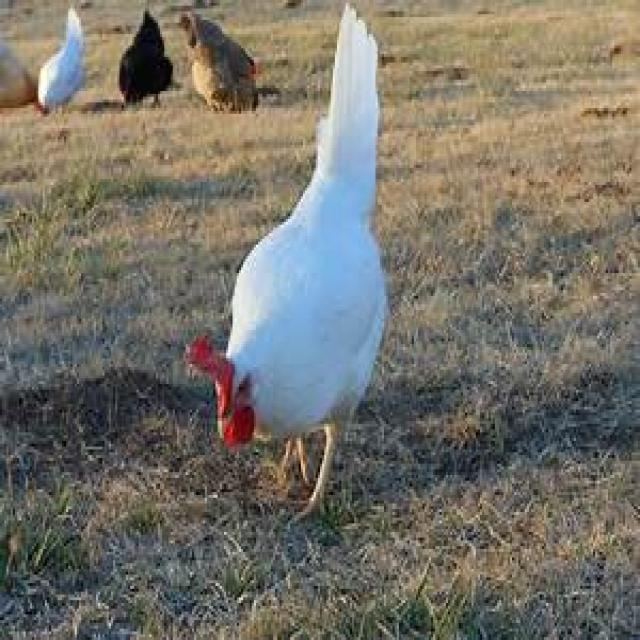hen: (220, 3, 388, 512), (181, 11, 258, 114)
